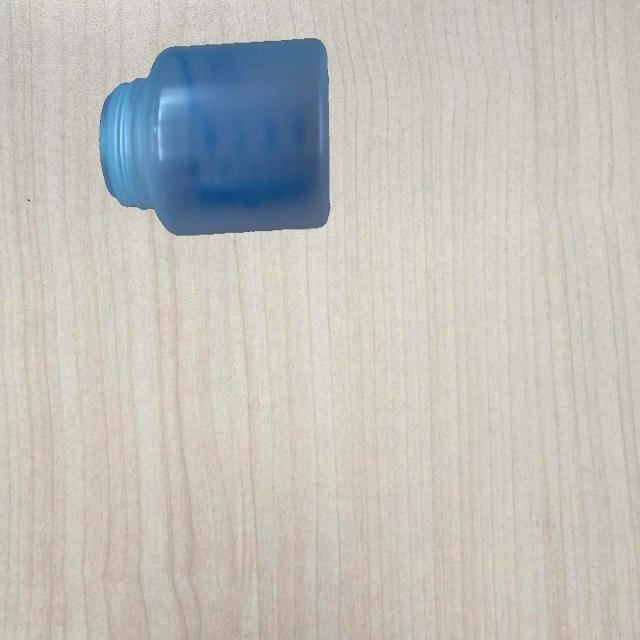bottle: (96, 29, 332, 242)
